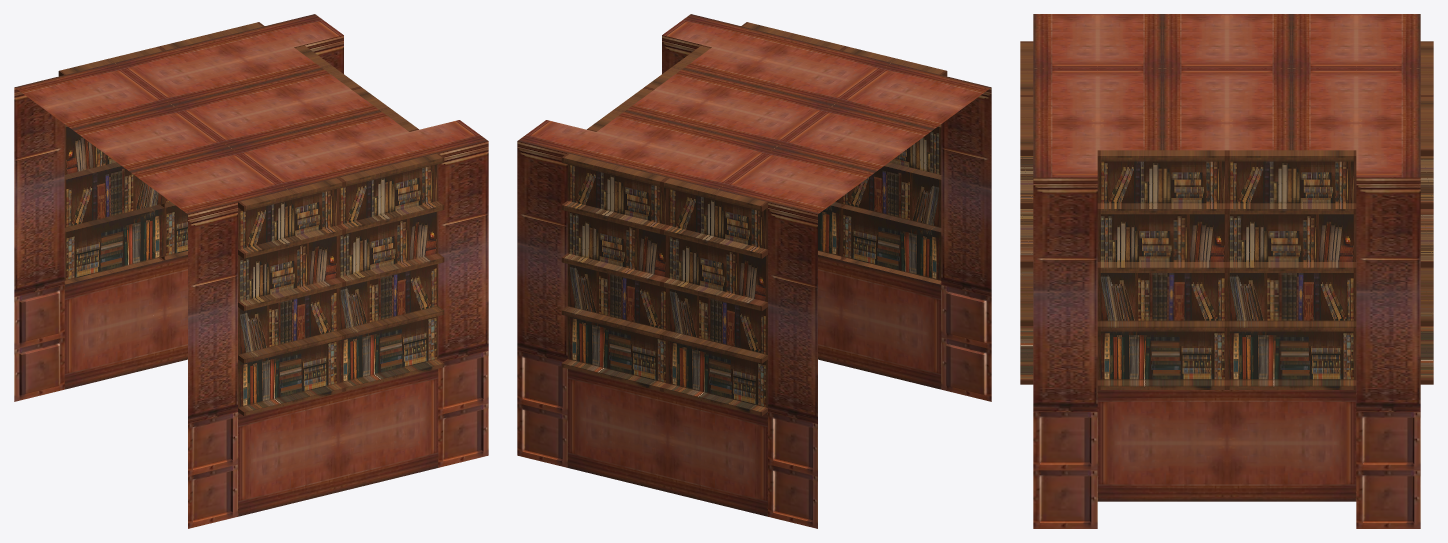
Rendered from env_book_shelf_01.FBX.
3 views of the same model, side by side, from view 1: azimuth 30°, elevation 25°; view 2: azimuth 150°, elevation 25°; view 3: azimuth 270°, elevation 25° (orthographic). The views are drawn at different scales.
Parts seen in each view (by area): view 1: env_book_shelf_01; view 2: env_book_shelf_01; view 3: env_book_shelf_01.
Part boxes in pixels (x1,y1,x2,y2): env_book_shelf_01: (14, 14, 488, 528); env_book_shelf_01: (517, 14, 991, 528); env_book_shelf_01: (1020, 14, 1433, 528).
Bounding box in the file's own units: 118 × 118 × 126.
3 materials, 3 textured.
